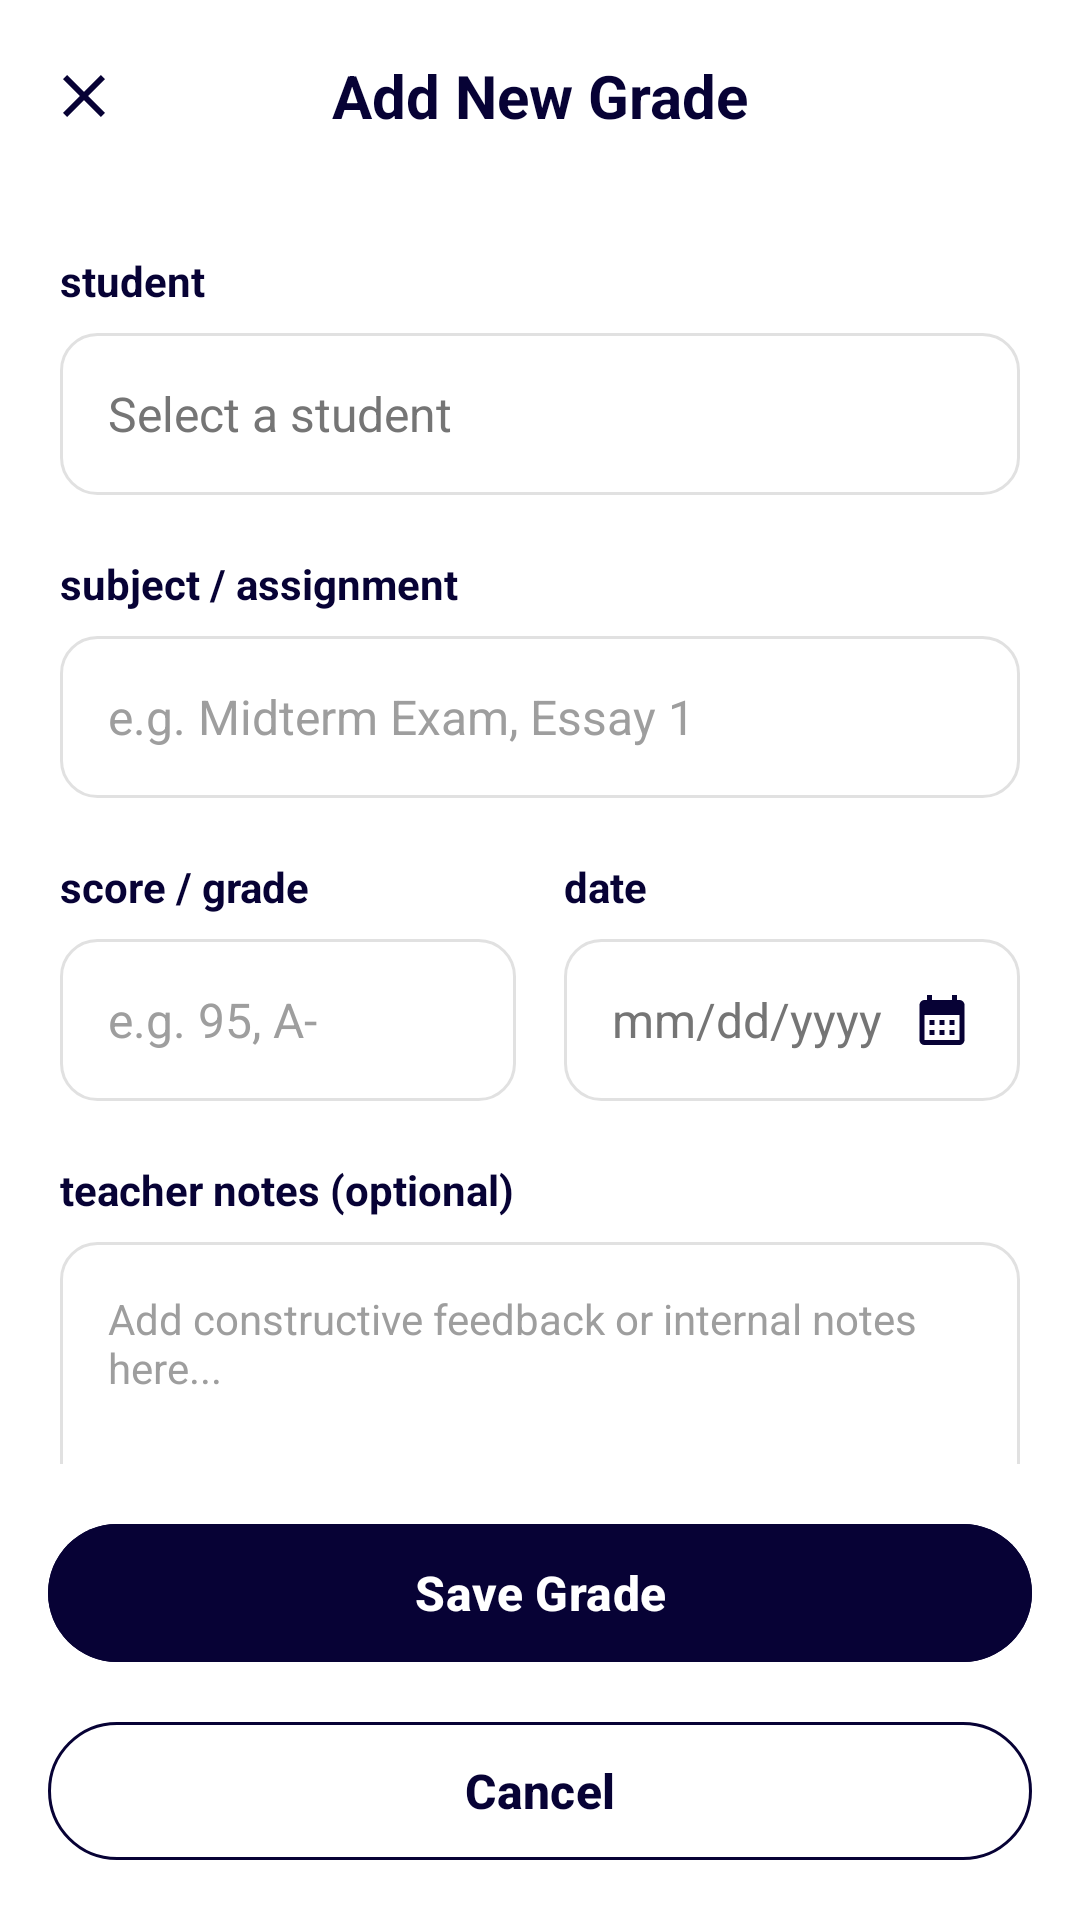

Icon bounding boxes for this 1080 x 1920 phone screenshot, format (x1, y1, x2, y2):
calendar: (919, 995, 965, 1045)
close: (63, 75, 105, 117)
